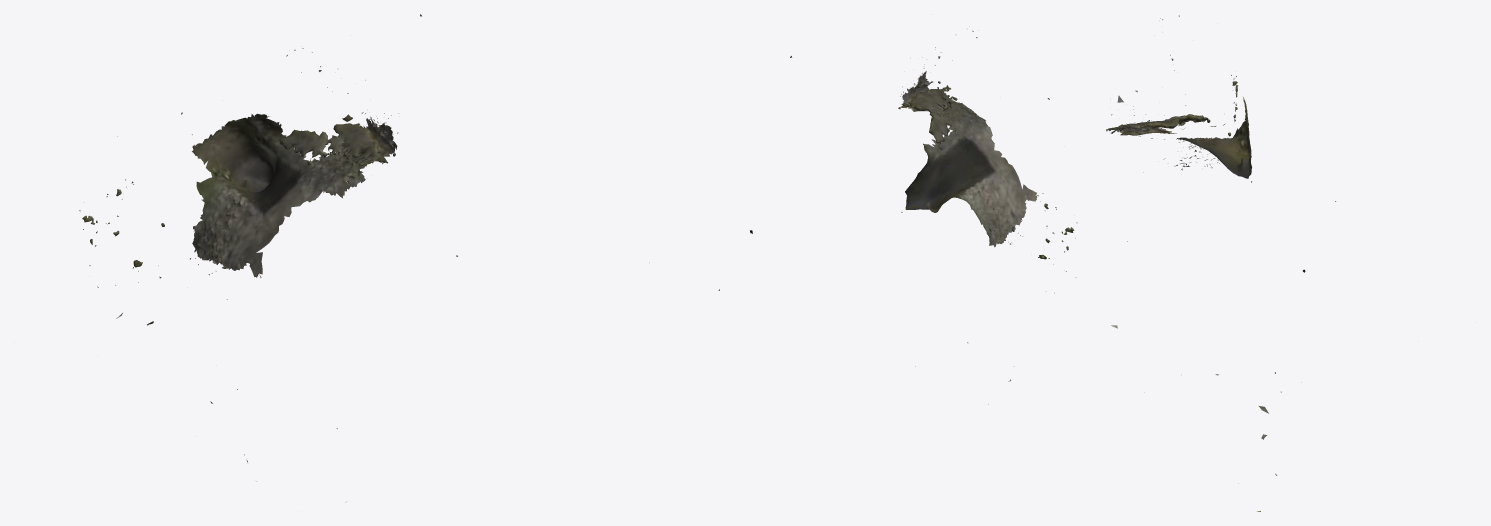
The picture shows the model from 3 angles, left to right: view 1: azimuth 30°, elevation 25°; view 2: azimuth 150°, elevation 25°; view 3: azimuth 270°, elevation 25°; orthographic projection. The views are drawn at different scales.
Bounding box in the file's own units: 9.74 × 10 × 7.81.
Materials: 1 (1 with a texture image).
